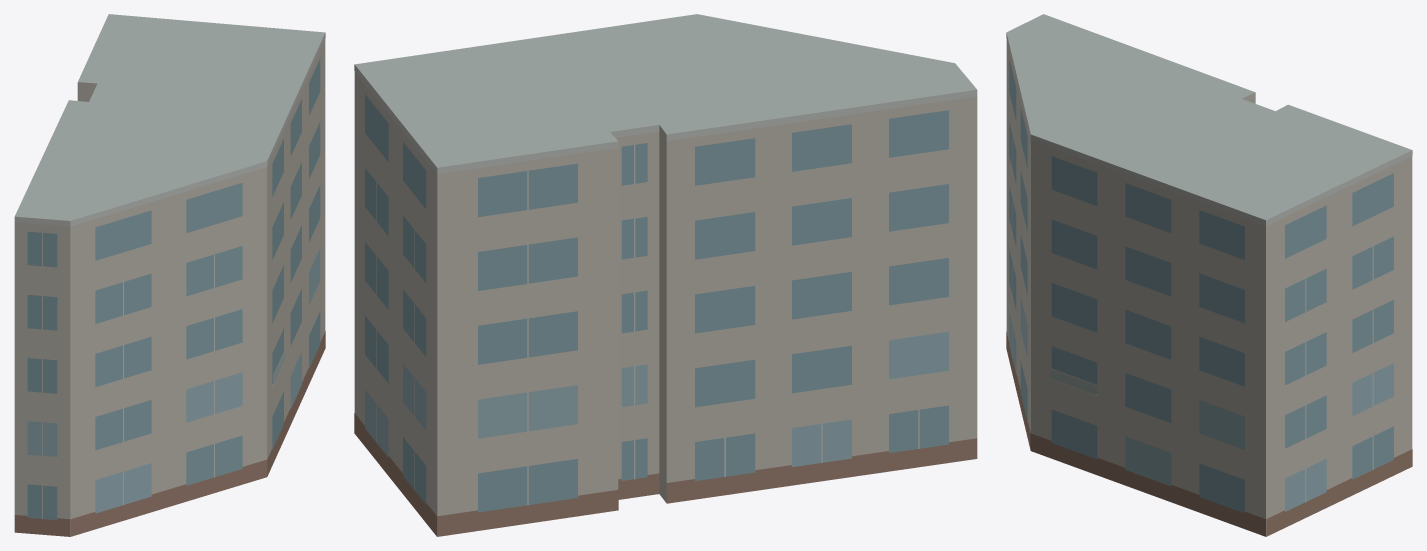
Rendered from survey-upis-32872979.glb.
The picture shows the model from 3 angles, left to right: view 1: azimuth 30°, elevation 25°; view 2: azimuth 150°, elevation 25°; view 3: azimuth 270°, elevation 25°; orthographic projection. The views are drawn at different scales.
Parts seen in each view (by area): view 1: survey-upis-32872979.tmp; view 2: survey-upis-32872979.tmp; view 3: survey-upis-32872979.tmp.
Part boxes in pixels (box(x1,y1,x2,y2)): survey-upis-32872979.tmp: box(14, 14, 325, 536); survey-upis-32872979.tmp: box(354, 14, 977, 536); survey-upis-32872979.tmp: box(1006, 14, 1412, 536).
Size of the model in its own units: 19.02 by 13.6 by 15.81.
